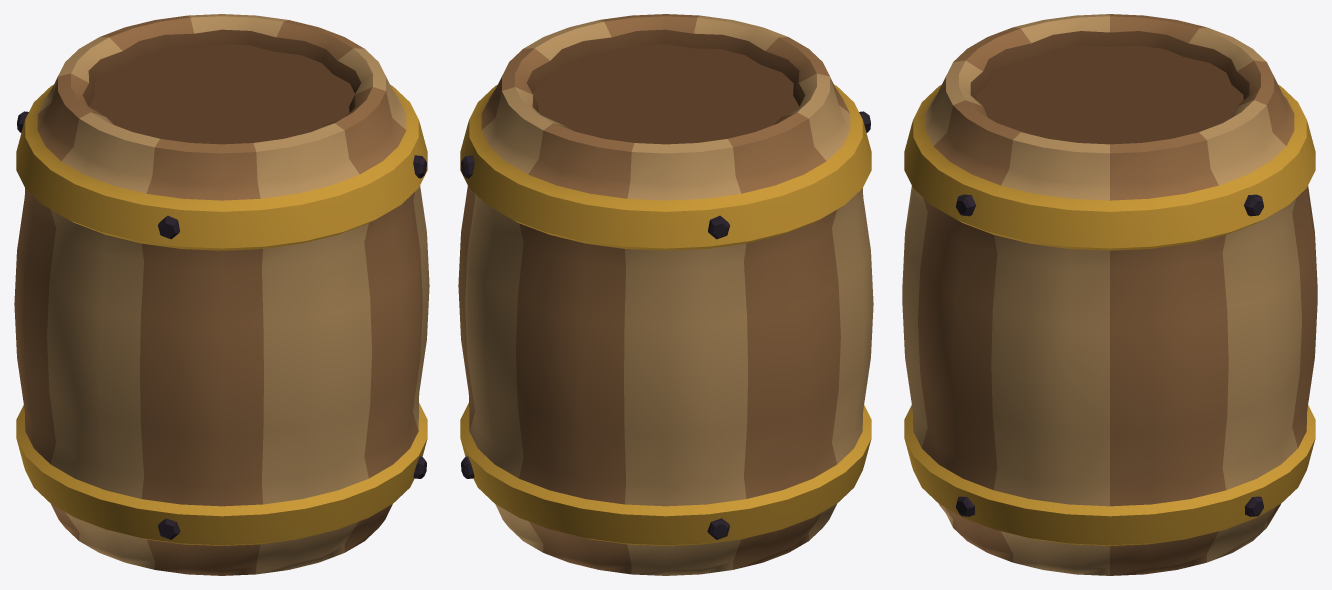
The model's file is Barrel_28.glb.
3 views of the same model, side by side, from view 1: azimuth 30°, elevation 25°; view 2: azimuth 150°, elevation 25°; view 3: azimuth 270°, elevation 25° (orthographic).
Visible parts, largest first — view 1: Barrel_28; view 2: Barrel_28; view 3: Barrel_28.
Part boxes in pixels (left/top/right/bottom): Barrel_28: left=14, top=14, right=429, bottom=575; Barrel_28: left=458, top=14, right=873, bottom=575; Barrel_28: left=902, top=14, right=1317, bottom=575.
Size of the model in its own units: 2.16 by 2.48 by 2.17.
